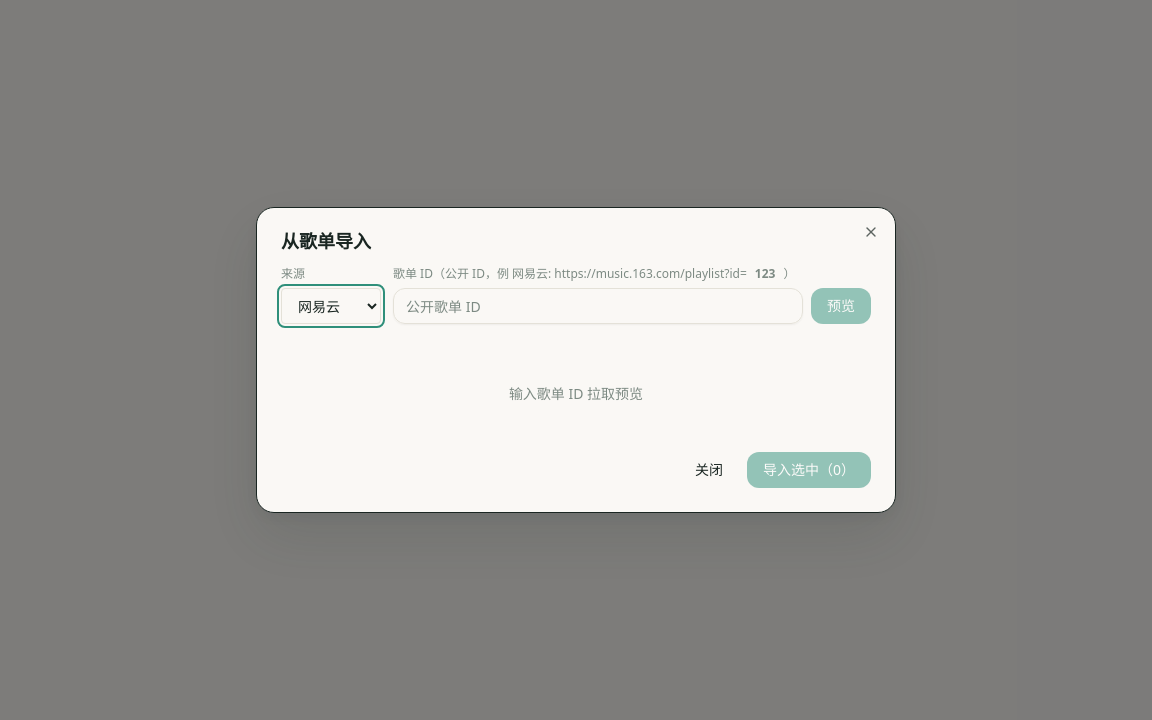
PlaylistImportDialog › 点击 checkbox 取消选择
Step 1. Type "123" into the field with test id "playlist-id-input" → (598, 306), box top-left (393, 288), bottom-right (803, 324)
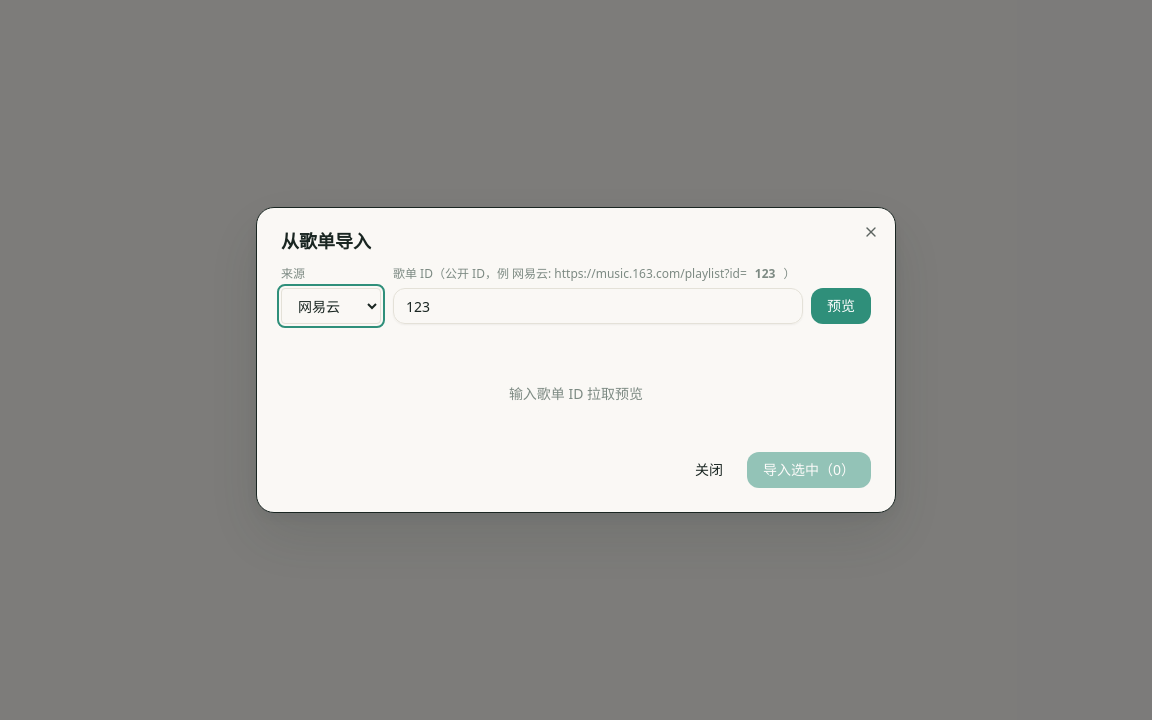
Step 2. Click the button with test id "preview-button" → (841, 306), box top-left (811, 288), bottom-right (871, 324)
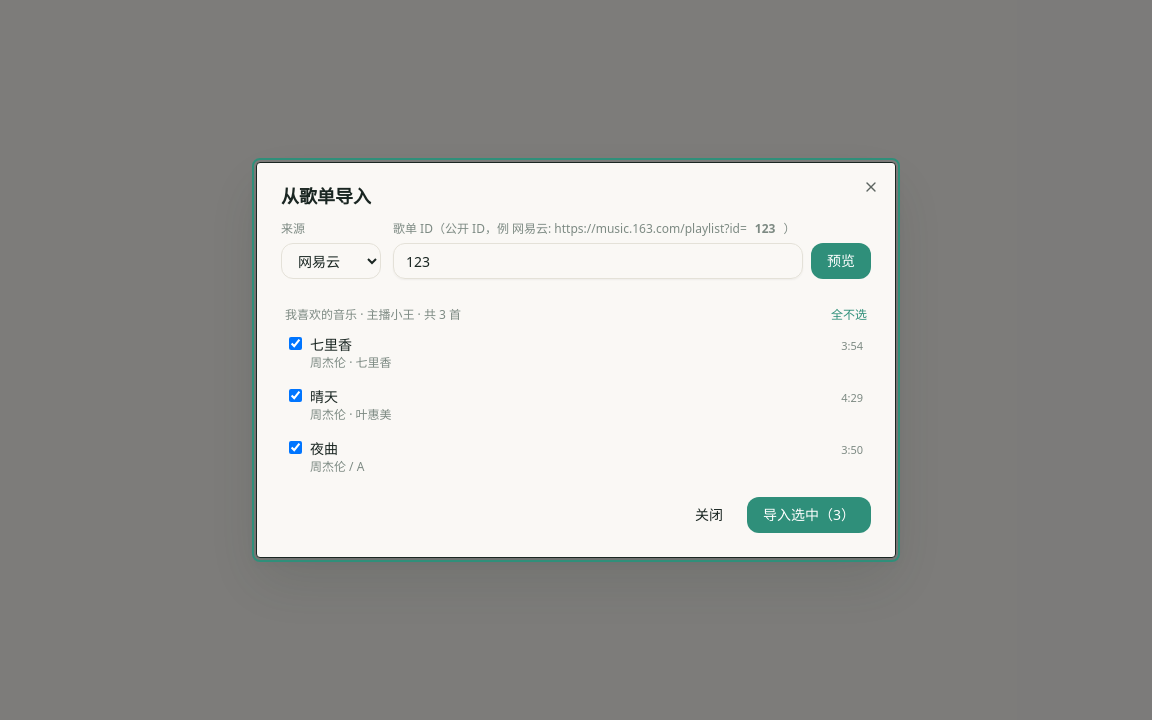
Expected: the number of checkboxes with test id "song-checkbox" is 3
Step 3. Click the checkbox with test id "song-checkbox" showing "七里香 3:54 周杰伦 · 七里香" → (296, 344), box top-left (289, 337), bottom-right (302, 350)
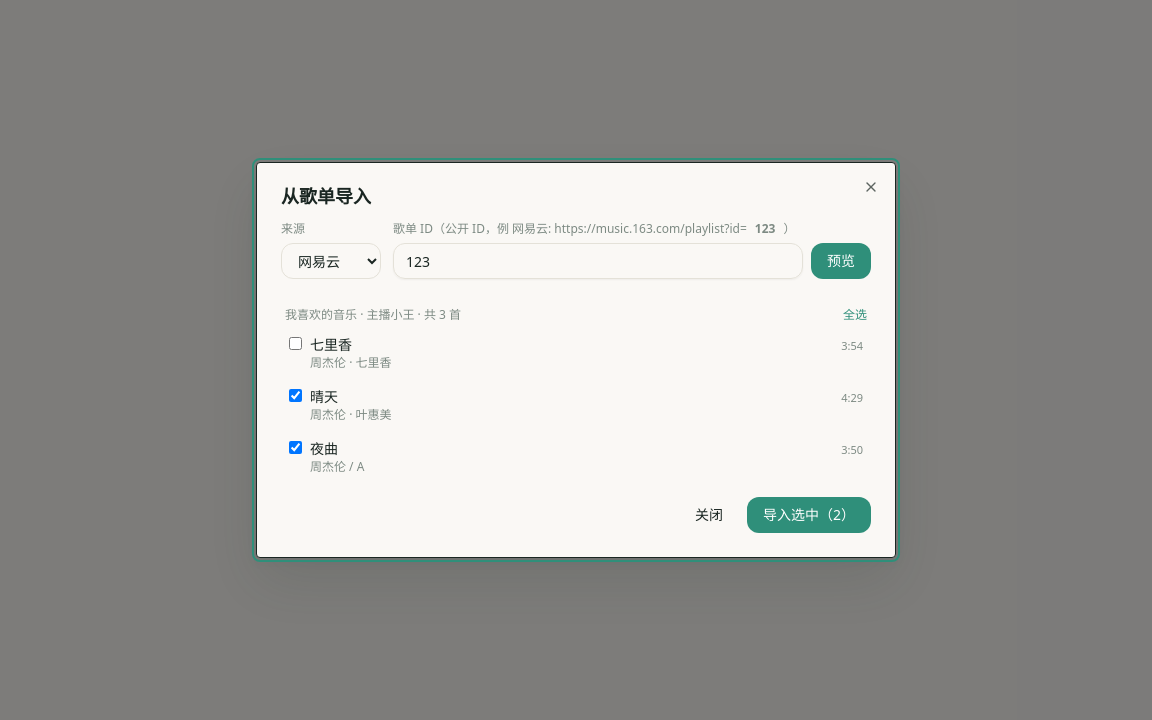
Expected: the button with test id "import-button" reads "导入选中（2）", top-left (747, 497), bottom-right (871, 533)
